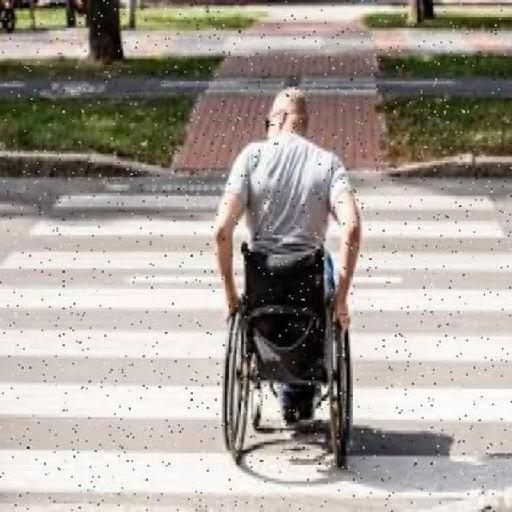cadeira_de_rodas: (197, 76, 368, 480)
